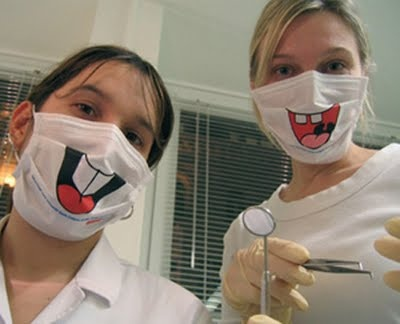with_mask: (35, 78, 150, 232), (259, 32, 362, 160)
